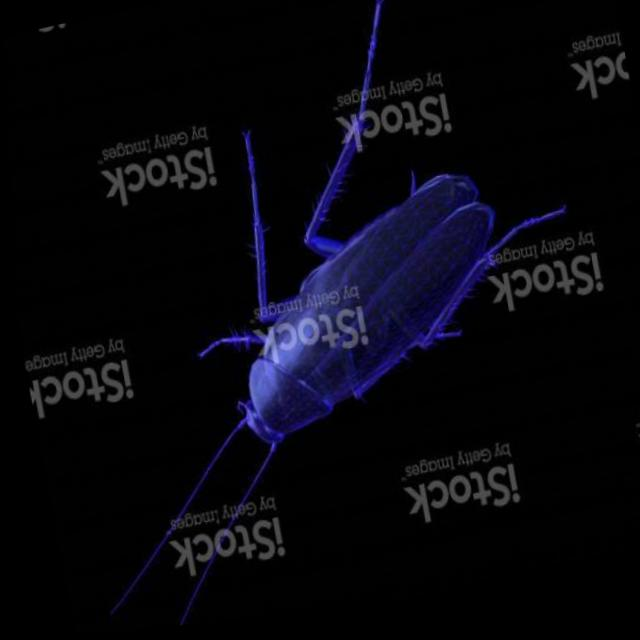Cockroach: (26, 0, 623, 638)
